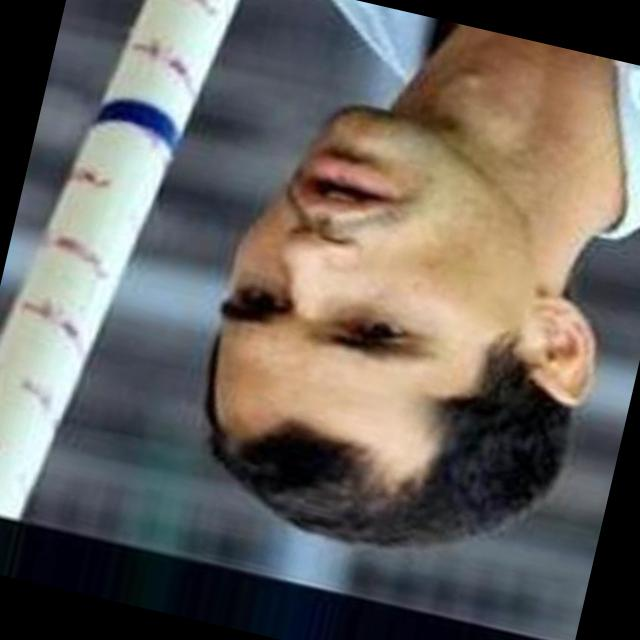bareface: (171, 74, 640, 557)
